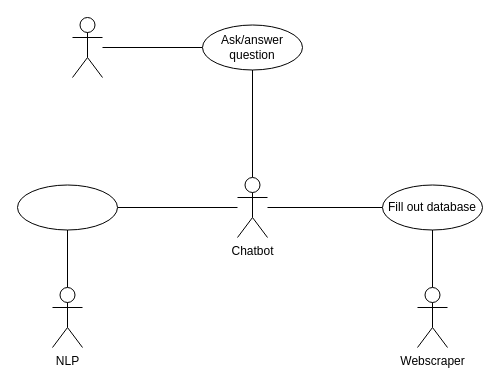
This 500x386 diagram has some shape labels left out. Here are the shapes that lost their labels. From the top down, the centre of each, then its label:
the point at 87,47: User
the point at 67,207: Train NLP
